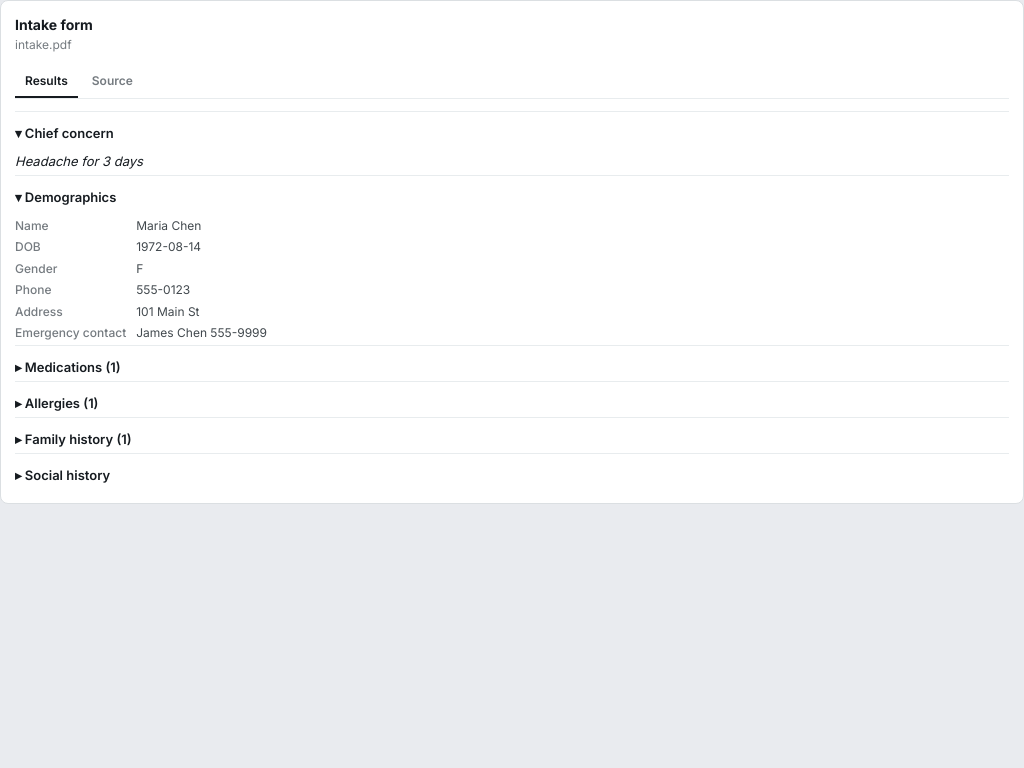
Test: ExtractionResultsPanel › backend-shaped intake rendering (issue 034) › renders backend-shaped social history fields (smoking, alcohol, drugs, occupation)
This screenshot has width=1024, height=768.
Click the button "▸ Social history" at (63, 475), box [15, 462, 110, 489]
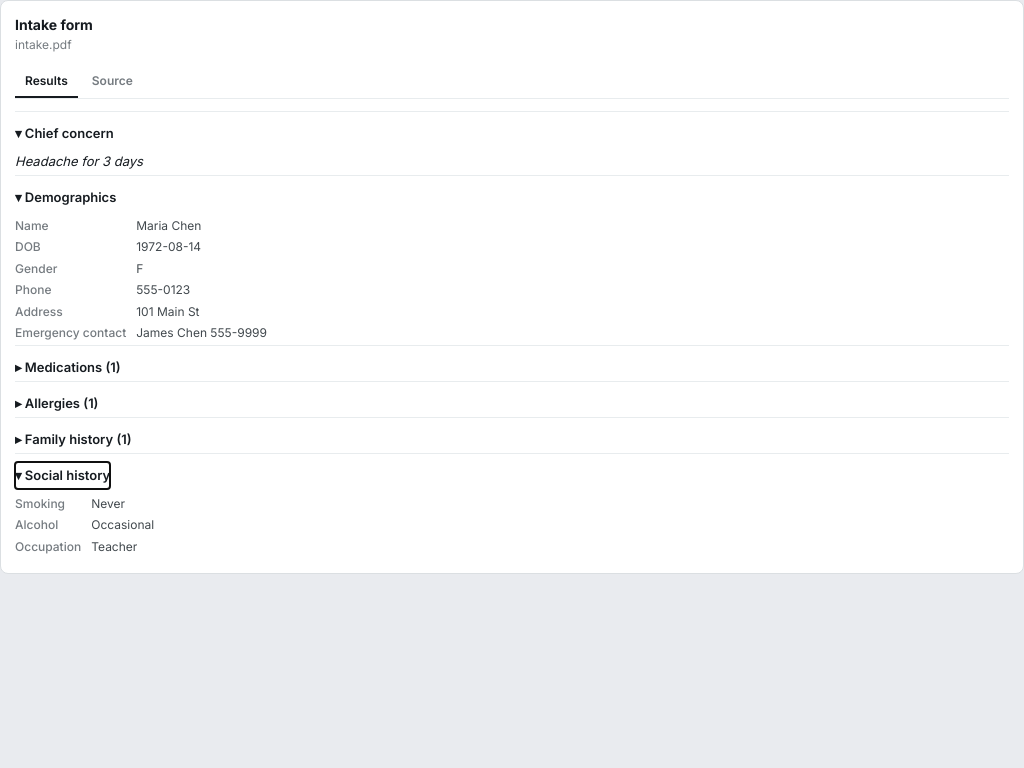
Expected: the text "Smoking" is shown, [15, 496, 65, 511]
Expected: the text "Never" is shown, [91, 496, 125, 511]
Expected: the text "Alcohol" is shown, [15, 517, 58, 532]
